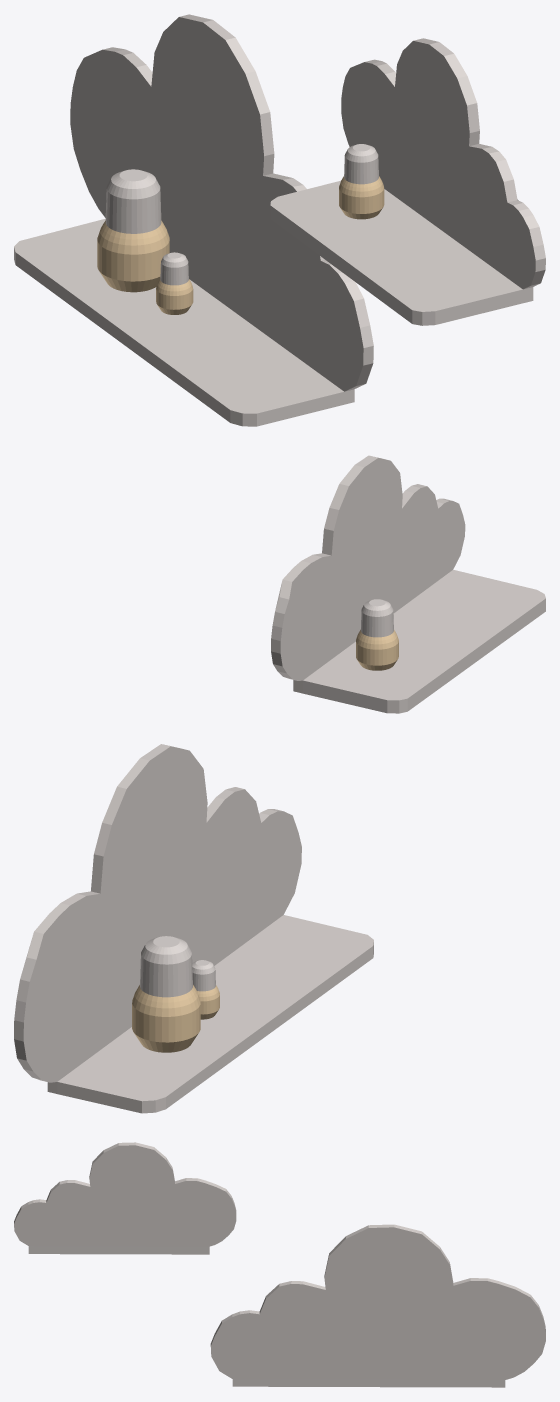
The model's file is Furn8_bookase_color1.fbx.
The picture shows the model from 3 angles, top to bottom: view 1: azimuth 30°, elevation 25°; view 2: azimuth 150°, elevation 25°; view 3: azimuth 270°, elevation 25°; orthographic projection. The views are drawn at different scales.
Visible parts, largest first — view 1: Plane.031; view 2: Plane.031; view 3: Plane.031.
Boxes of the visible parts, x1,y1,x2,y2 form: Plane.031: (14,14,545,426); Plane.031: (14,455,545,1113); Plane.031: (14,1142,545,1387).
Size of the model in its own units: 52.02 by 176 by 350.
